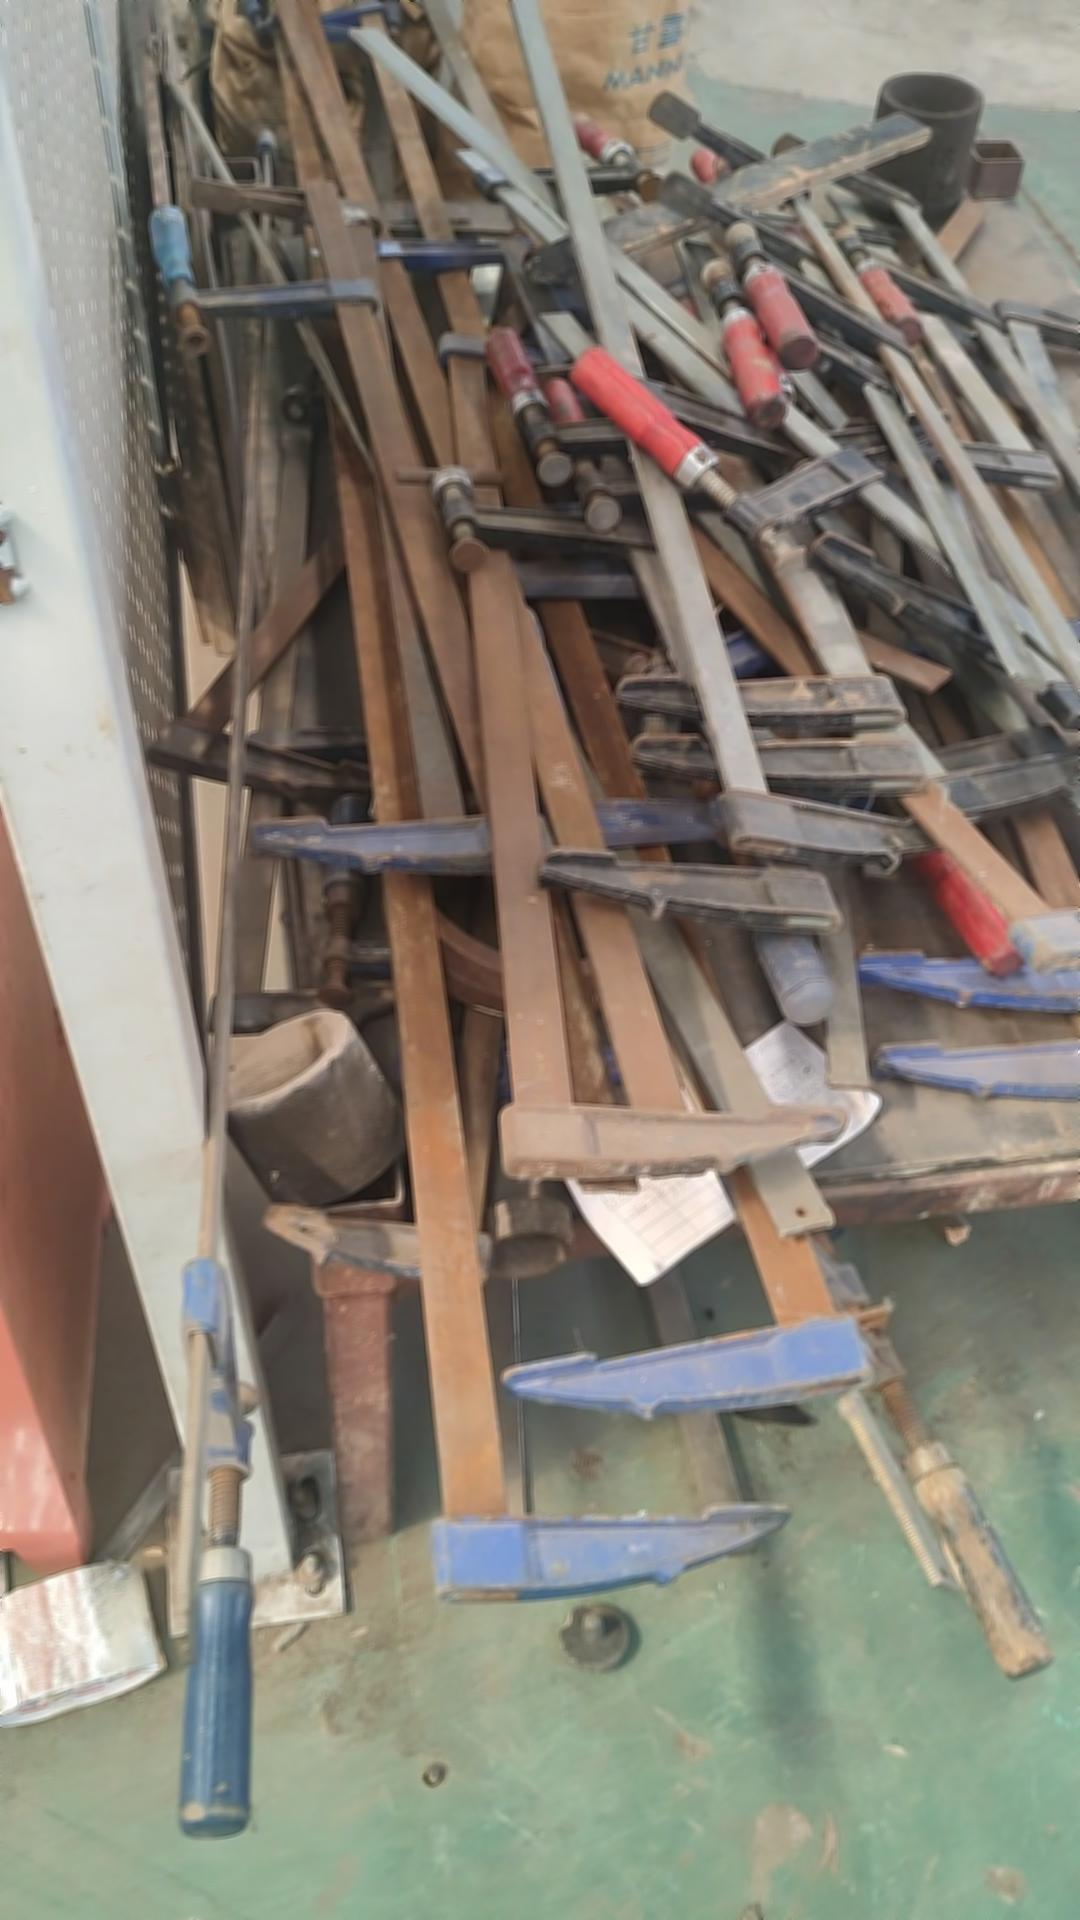pouring hole: (887, 73, 978, 112)
